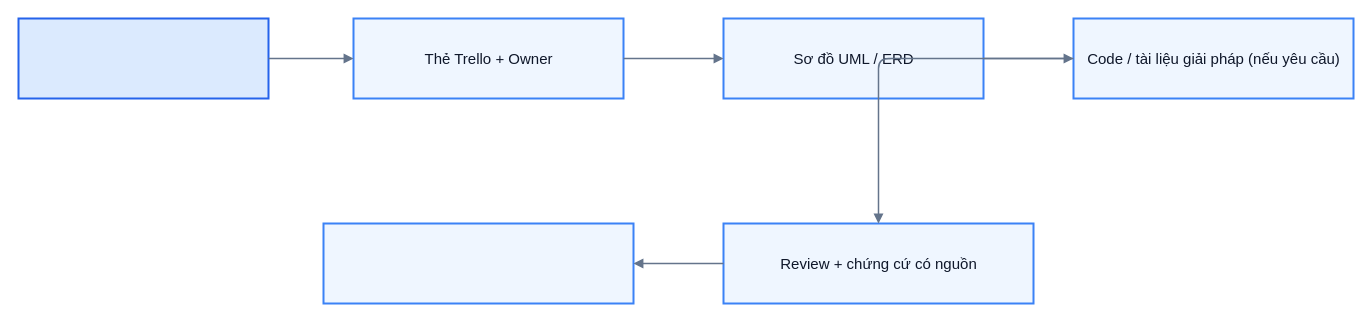
This 1371x321 diagram has some shape labels left out. The centre of each missing label's shape, as x and y in pixels:
Word + danh mục tệp bàn giao: pixel 478 263
Yêu cầu cô giao / FR: pixel 143 58
